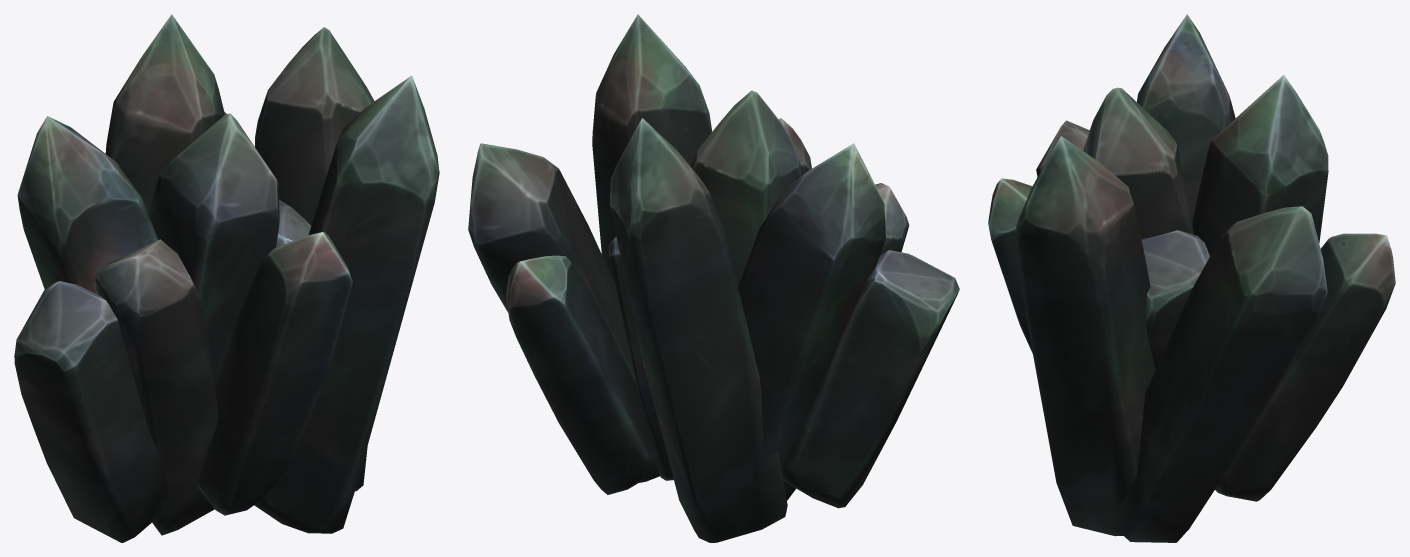
File: SM_Gem_BlackQuartz_008.fbx
3 views of the same model, side by side, from view 1: azimuth 30°, elevation 25°; view 2: azimuth 150°, elevation 25°; view 3: azimuth 270°, elevation 25° (orthographic). The views are drawn at different scales.
Visible parts, largest first — view 1: SM_Gem_BlackQuartz_008; view 2: SM_Gem_BlackQuartz_008; view 3: SM_Gem_BlackQuartz_008.
Part boxes in pixels (left/top/right/bottom): SM_Gem_BlackQuartz_008: left=14, top=14, right=439, bottom=542; SM_Gem_BlackQuartz_008: left=468, top=14, right=959, bottom=542; SM_Gem_BlackQuartz_008: left=988, top=14, right=1395, bottom=542.
Bounding box in the file's own units: 79.3 × 80.12 × 68.56.
